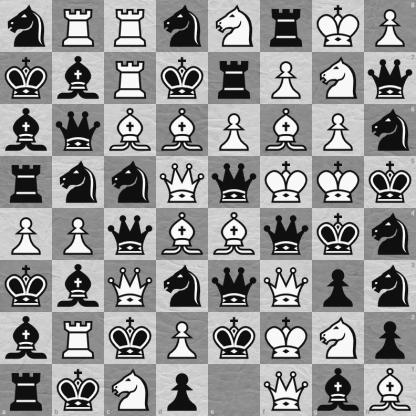B: (364, 364, 416, 416), (105, 105, 156, 156), (157, 105, 208, 156), (157, 209, 208, 260), (209, 209, 260, 260), (261, 105, 312, 156)
K: (261, 157, 312, 208), (261, 313, 312, 364), (313, 1, 364, 52), (313, 157, 364, 208)
N: (104, 364, 156, 416), (209, 1, 260, 52), (313, 53, 364, 104), (313, 313, 364, 364)
P: (364, 0, 416, 52), (1, 209, 52, 260), (53, 209, 104, 260), (157, 313, 208, 364), (209, 105, 260, 156), (261, 53, 312, 104), (313, 105, 364, 156)
Q: (260, 364, 312, 416), (105, 261, 156, 312), (157, 157, 208, 208), (261, 261, 312, 312)
R: (53, 1, 104, 52), (53, 313, 104, 364), (105, 1, 156, 52), (105, 53, 156, 104)
b: (312, 364, 364, 416), (1, 105, 52, 156), (1, 313, 52, 364), (53, 53, 104, 104), (53, 261, 104, 312)
board: (0, 0, 415, 415)
k: (364, 156, 416, 209), (52, 364, 104, 416), (1, 53, 52, 104), (1, 261, 52, 312), (105, 313, 156, 364), (157, 53, 208, 104), (209, 313, 260, 364), (313, 209, 364, 260)
n: (364, 104, 416, 156), (364, 260, 416, 312), (364, 209, 416, 260), (1, 1, 52, 52), (53, 157, 104, 208), (105, 157, 156, 208), (157, 1, 208, 52), (157, 261, 208, 312)
p: (156, 364, 209, 416), (364, 312, 416, 364), (313, 261, 364, 312)
q: (364, 52, 416, 104), (53, 105, 104, 156), (105, 209, 156, 260), (209, 157, 260, 208), (209, 261, 260, 312), (261, 209, 312, 260)
r: (0, 364, 52, 416), (1, 157, 52, 208), (209, 53, 260, 104), (261, 1, 312, 52)
